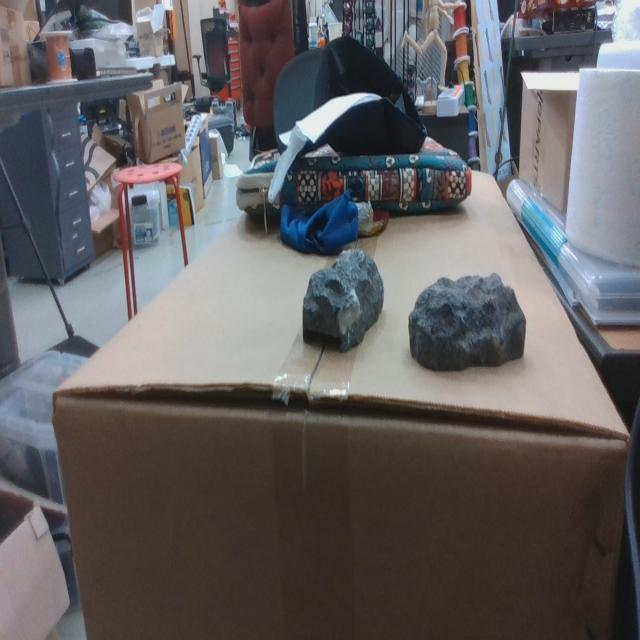stone: (407, 272, 527, 374), (302, 248, 384, 354)
